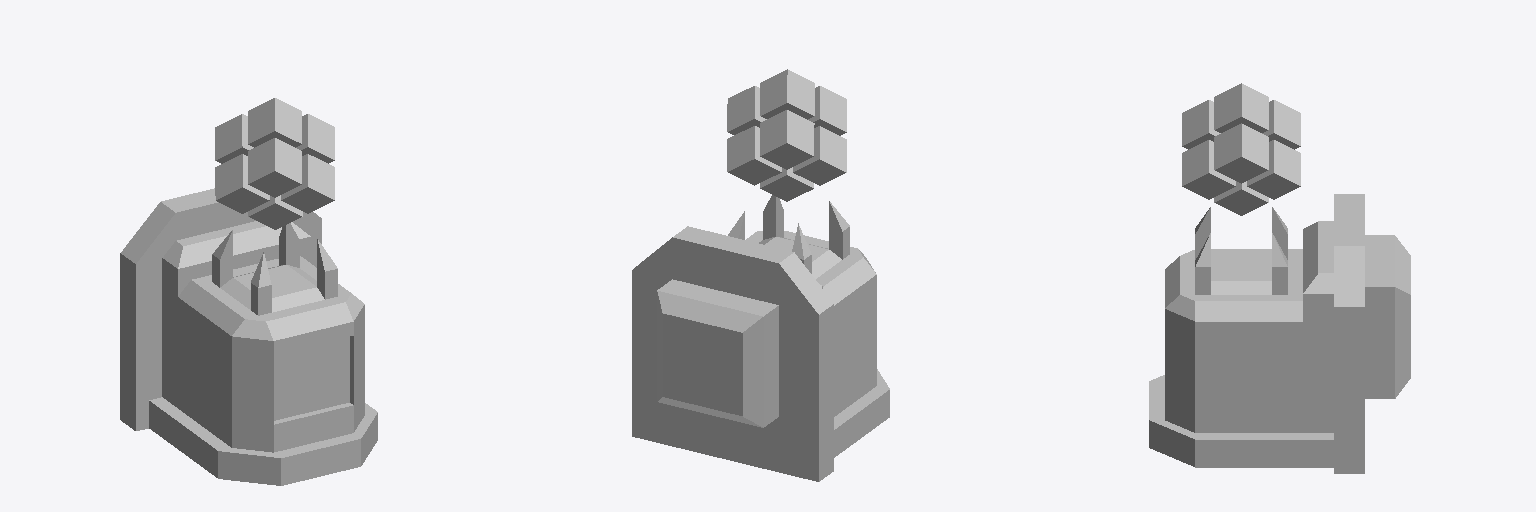
The model's file is actuator_arcane_inventory.obj.
The picture shows the model from 3 angles: view 1: azimuth 30°, elevation 25°; view 2: azimuth 150°, elevation 25°; view 3: azimuth 270°, elevation 25°; orthographic projection.
Parts seen in each view (by area): view 1: OCCULT_MATRIX_BODY_Cube.058, OCCULT_MATRIX_CUBE_INVENTORY_Cube.066; view 2: OCCULT_MATRIX_BODY_Cube.058, OCCULT_MATRIX_CUBE_INVENTORY_Cube.066; view 3: OCCULT_MATRIX_BODY_Cube.058, OCCULT_MATRIX_CUBE_INVENTORY_Cube.066.
Part boxes in pixels (x1,y1,x2,y2): OCCULT_MATRIX_BODY_Cube.058: (120,188,377,485); OCCULT_MATRIX_CUBE_INVENTORY_Cube.066: (215,98,334,229); OCCULT_MATRIX_BODY_Cube.058: (632,195,889,481); OCCULT_MATRIX_CUBE_INVENTORY_Cube.066: (727,69,846,201); OCCULT_MATRIX_BODY_Cube.058: (1149,194,1410,473); OCCULT_MATRIX_CUBE_INVENTORY_Cube.066: (1182,83,1300,215).
Size of the model in its own units: 0.875 by 1.55 by 1.06.